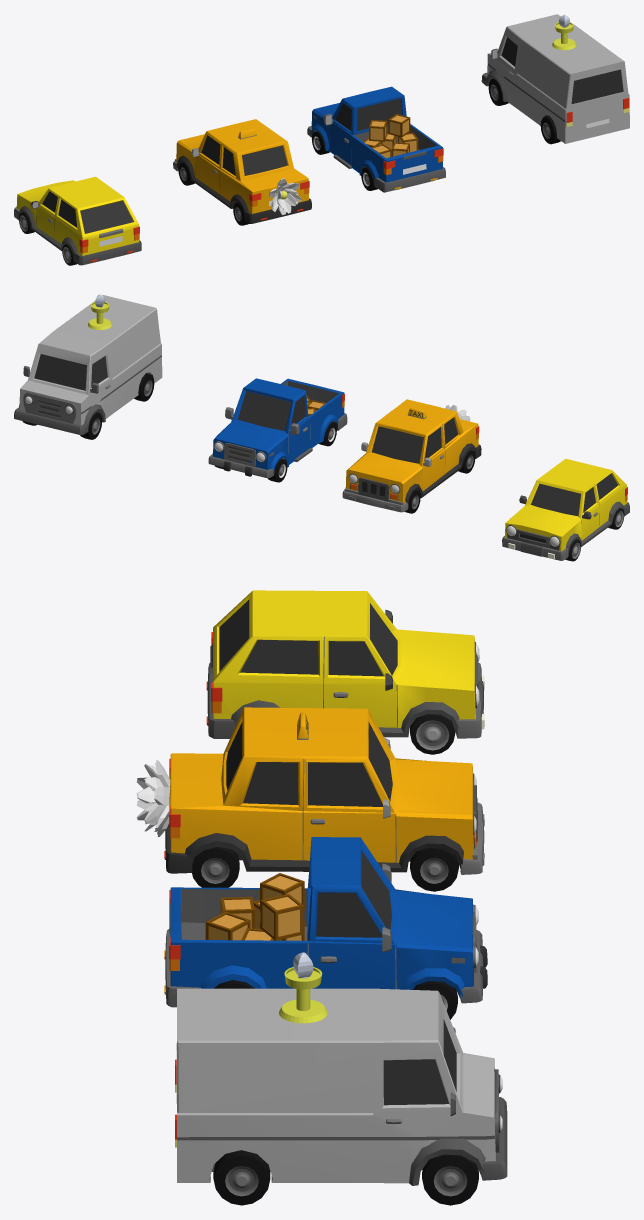
File: chaxi (1).fbx
The picture shows the model from 3 angles, top to bottom: view 1: azimuth 30°, elevation 25°; view 2: azimuth 150°, elevation 25°; view 3: azimuth 270°, elevation 25°; orthographic projection. The views are drawn at different scales.
Visible parts, largest first — view 1: Van 1, Car 2, Car 3, Car 1, FL_Wheel.005; view 2: Van 1, Car 2, Car 3, Car 1, FL_Wheel.005; view 3: Van 1, Car 2, Car 3, Car 1, FR_Wheel.005, FR_Wheel.016, FR_Wheel.004, FR_Wheel.001, FR_Wheel.
Part boxes in pixels (x1=…): Van 1: x1=481, y1=14, x2=629, y2=143; Car 2: x1=173, y1=119, x2=311, y2=223; Car 3: x1=307, y1=86, x2=445, y2=192; Car 1: x1=14, y1=176, x2=141, y2=265; FL_Wheel.005: x1=540, y1=115, x2=560, y2=144; Van 1: x1=14, y1=294, x2=162, y2=434; Car 2: x1=342, y1=399, x2=481, y2=512; Car 3: x1=208, y1=378, x2=347, y2=478; Car 1: x1=502, y1=458, x2=629, y2=560; FL_Wheel.005: x1=134, y1=373, x2=154, y2=401; Van 1: x1=175, y1=952, x2=507, y2=1185; Car 2: x1=136, y1=707, x2=484, y2=874; Car 3: x1=164, y1=837, x2=487, y2=1007; Car 1: x1=206, y1=590, x2=484, y2=738; FR_Wheel.005: x1=213, y1=1150, x2=270, y2=1205; FR_Wheel.016: x1=422, y1=1154, x2=478, y2=1205; FR_Wheel.004: x1=410, y1=848, x2=458, y2=891; FR_Wheel.001: x1=192, y1=847, x2=239, y2=887; FR_Wheel: x1=410, y1=714, x2=455, y2=754.
Bounding box in the file's own units: 1729 × 356 × 504.
